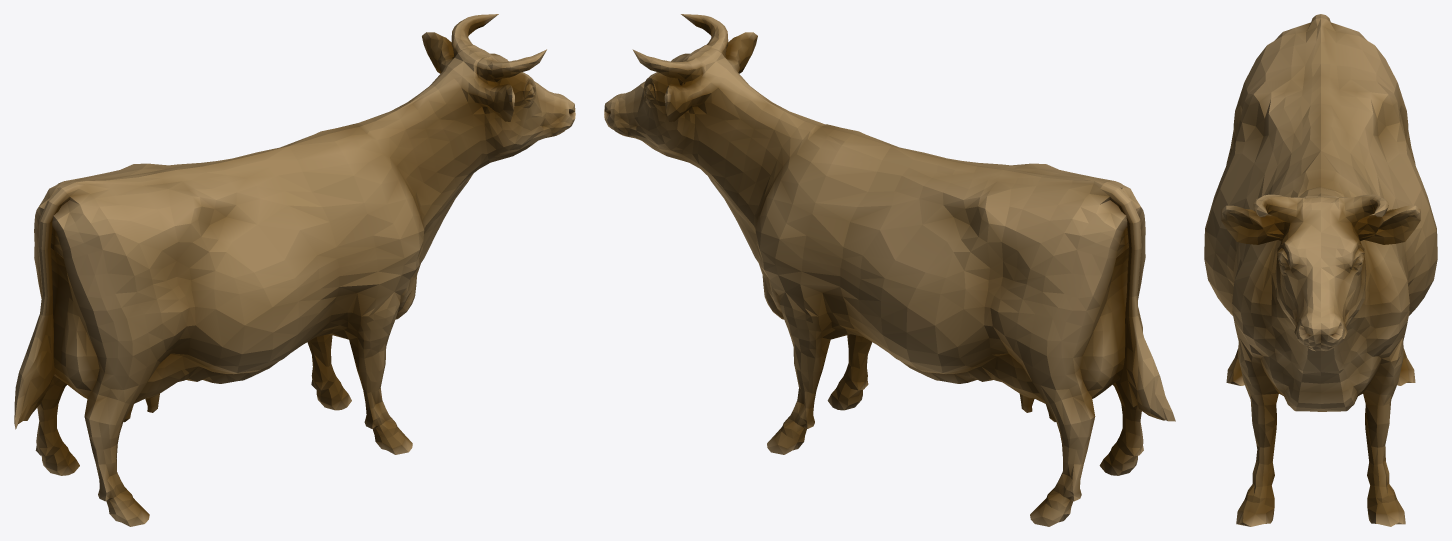
The model's file is cow3KC.obj.
3 renders of one model, left to right at view 1: azimuth 30°, elevation 25°; view 2: azimuth 150°, elevation 25°; view 3: azimuth 270°, elevation 25°, orthographic. The views are drawn at different scales.
Bounding box in the file's own units: 10.44 × 6.4 × 3.4.
